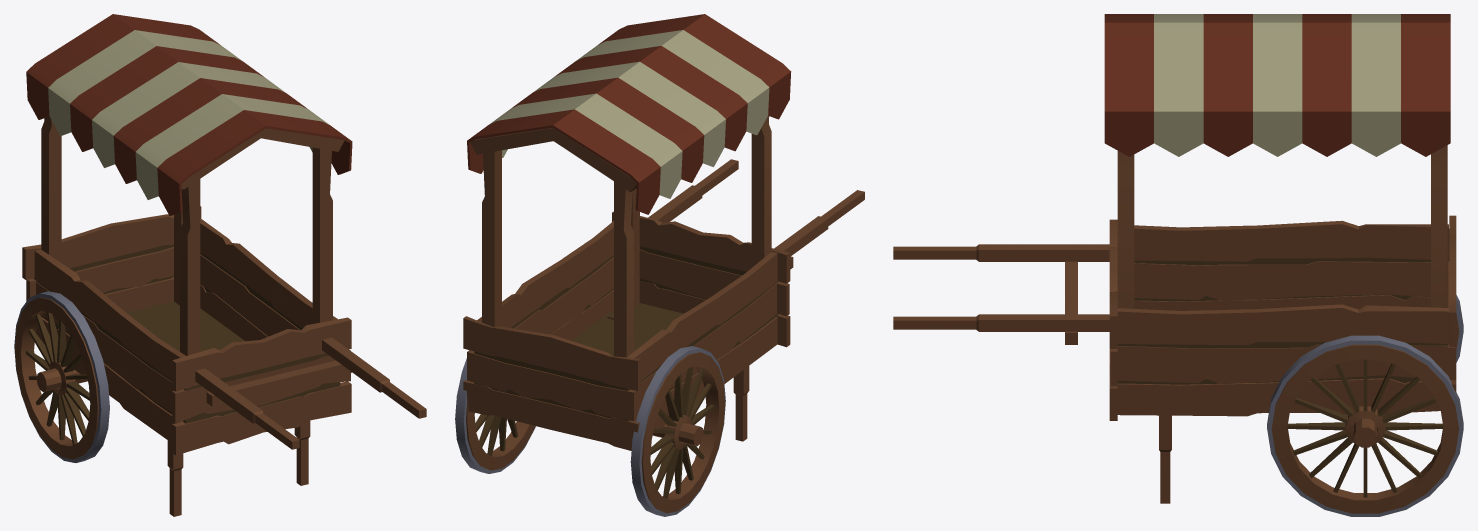
The model's file is cart.glb.
The picture shows the model from 3 angles, left to right: view 1: azimuth 30°, elevation 25°; view 2: azimuth 150°, elevation 25°; view 3: azimuth 270°, elevation 25°; orthographic projection. The views are drawn at different scales.
Visible parts, largest first — view 1: Cart; view 2: Cart; view 3: Cart.
Part boxes in pixels (bbox=[...]): Cart: bbox=[14, 14, 426, 516]; Cart: bbox=[455, 14, 864, 516]; Cart: bbox=[893, 14, 1463, 516].
Bounding box in the file's own units: 0.462 × 0.7961 × 0.9274.
1 material, 1 textured.
